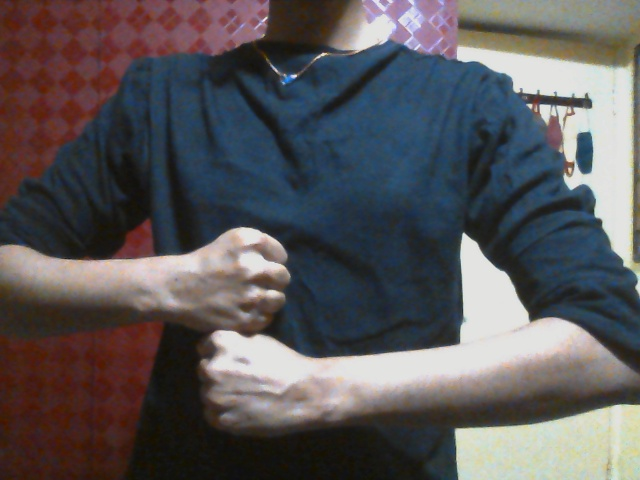G: (191, 224, 309, 440)
